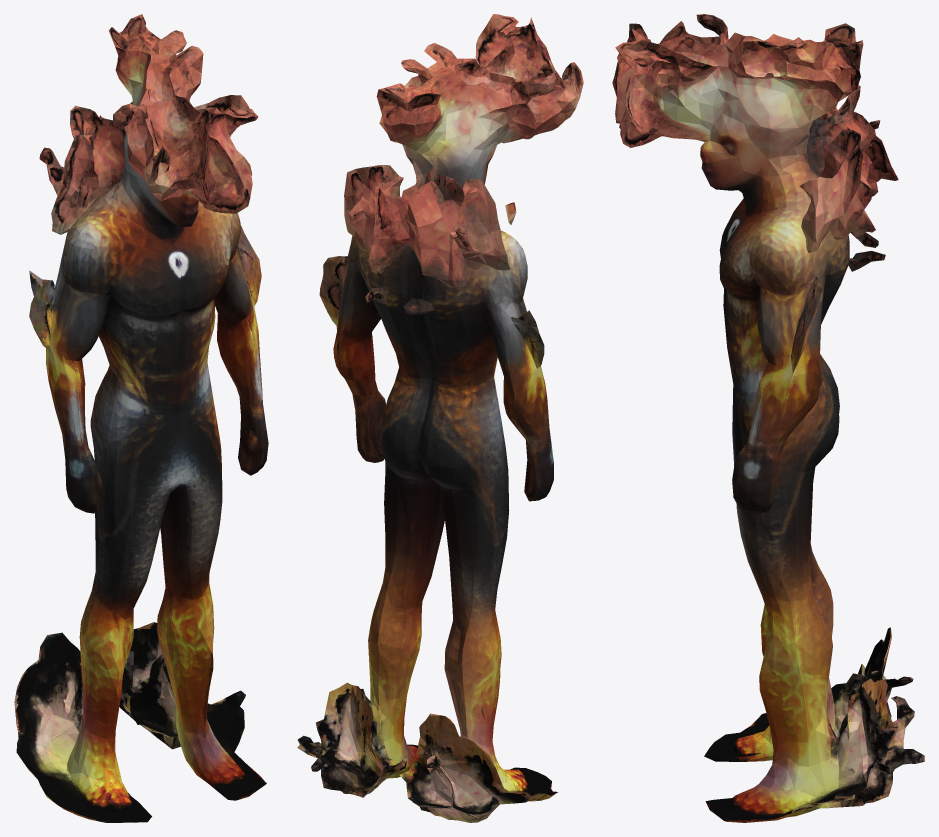
File: johnny_storm.glb
The picture shows the model from 3 angles, left to right: view 1: azimuth 30°, elevation 25°; view 2: azimuth 150°, elevation 25°; view 3: azimuth 270°, elevation 25°; orthographic projection. The views are drawn at different scales.
Visible parts, largest first — view 1: world; view 2: world; view 3: world.
Boxes of the visible parts, left/top/right/bottom form: world: left=14, top=14, right=268, bottom=822; world: left=297, top=14, right=583, bottom=822; world: left=612, top=14, right=924, bottom=822.
Bounding box in the file's own units: 0.3264 × 0.9948 × 0.3731.
1 material, 1 textured.
